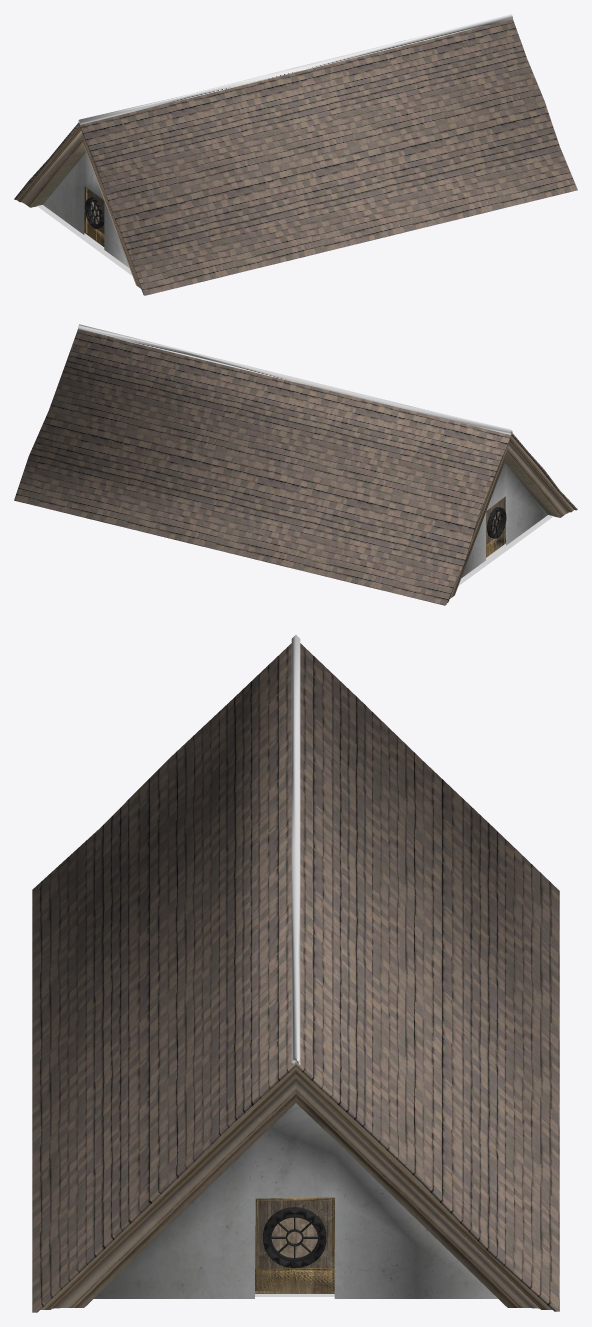
File: escena3_attic_floor_walls.fbx
The picture shows the model from 3 angles, top to bottom: view 1: azimuth 30°, elevation 25°; view 2: azimuth 150°, elevation 25°; view 3: azimuth 270°, elevation 25°; orthographic projection. The views are drawn at different scales.
Parts seen in each view (by area): view 1: 4_Hom-Townhome-Tile-Roof_0.1_0_5, 40_Hom-Townhome-Concrete_0.1_0_0, 40_Hom-Trim-Basic_0.1_0_0; view 2: 4_Hom-Townhome-Tile-Roof_0.1_0_5, 40_Hom-Townhome-Concrete_0.1_0_0, 40_Hom-Trim-Basic_0.1_0_0, 6_Sun-Floor-Wood-Pieces-01_0.1_0_10; view 3: 4_Hom-Townhome-Tile-Roof_0.1_0_5, 6_Sun-Floor-Wood-Pieces-01_0.1_0_10, 40_Hom-Townhome-Concrete_0.1_0_0, 40_Hom-Attic-Wallframe-Insulation_0.1_0_0.001, 40_Hom-Trim-Basic_0.1_0_0.
Part boxes in pixels (left/top/right/bottom): 4_Hom-Townhome-Tile-Roof_0.1_0_5: left=14, top=19, right=577, bottom=295; 40_Hom-Townhome-Concrete_0.1_0_0: left=37, top=14, right=512, bottom=275; 40_Hom-Trim-Basic_0.1_0_0: left=85, top=197, right=104, bottom=228; 4_Hom-Townhome-Tile-Roof_0.1_0_5: left=14, top=329, right=577, bottom=605; 40_Hom-Townhome-Concrete_0.1_0_0: left=78, top=324, right=553, bottom=585; 40_Hom-Trim-Basic_0.1_0_0: left=487, top=507, right=506, bottom=538; 6_Sun-Floor-Wood-Pieces-01_0.1_0_10: left=486, top=496, right=505, bottom=549; 4_Hom-Townhome-Tile-Roof_0.1_0_5: left=32, top=643, right=559, bottom=1312; 6_Sun-Floor-Wood-Pieces-01_0.1_0_10: left=255, top=1197, right=334, bottom=1293; 40_Hom-Townhome-Concrete_0.1_0_0: left=88, top=635, right=334, bottom=1304; 40_Hom-Attic-Wallframe-Insulation_0.1_0_0.001: left=255, top=1197, right=334, bottom=1293; 40_Hom-Trim-Basic_0.1_0_0: left=263, top=1207, right=326, bottom=1268.
Size of the model in its own units: 10.76 by 5.65 by 3.03.
